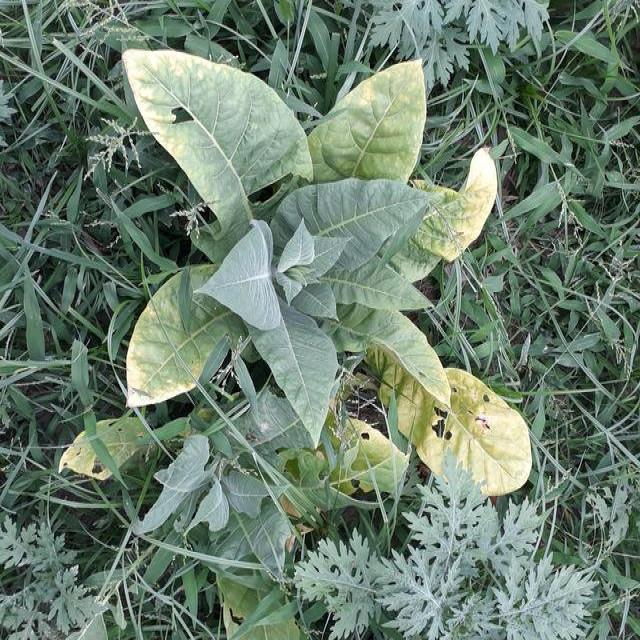crop: (61, 53, 528, 490)
